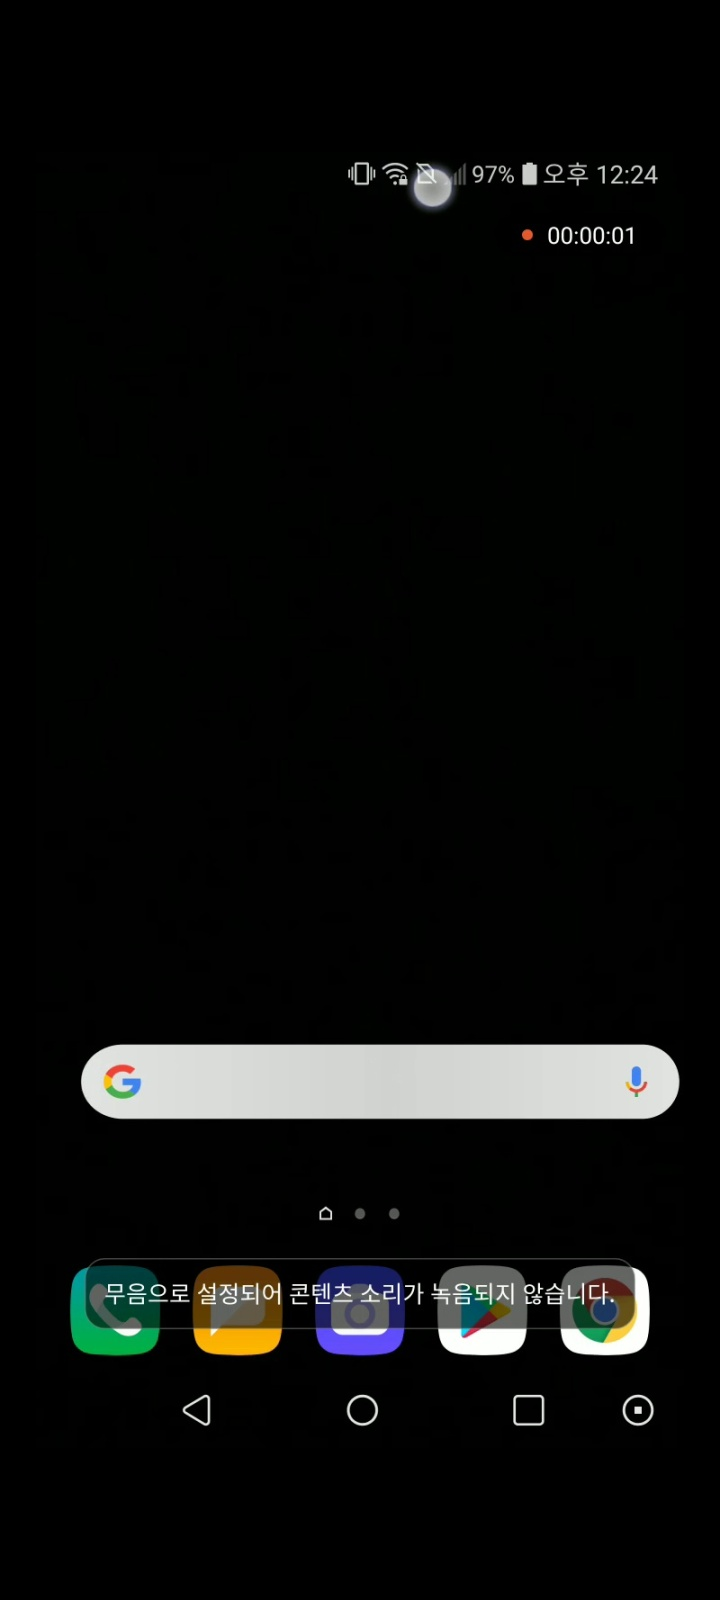Cursor: (411, 166, 456, 211)
